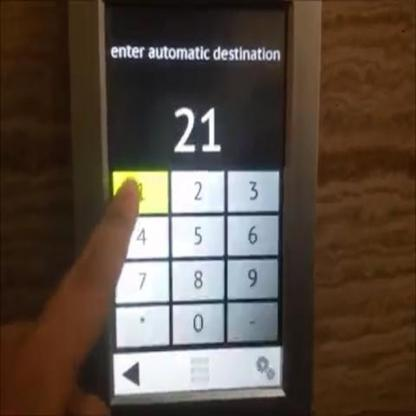-: (115, 305, 169, 347), (227, 301, 277, 342)
0: (171, 303, 225, 344)
2: (169, 168, 225, 213)
3: (227, 169, 278, 212)
4: (114, 215, 169, 258)
5: (170, 215, 224, 257)
6: (226, 215, 279, 256)
7: (114, 261, 168, 303)
8: (170, 259, 224, 301)
9: (226, 258, 278, 300)
